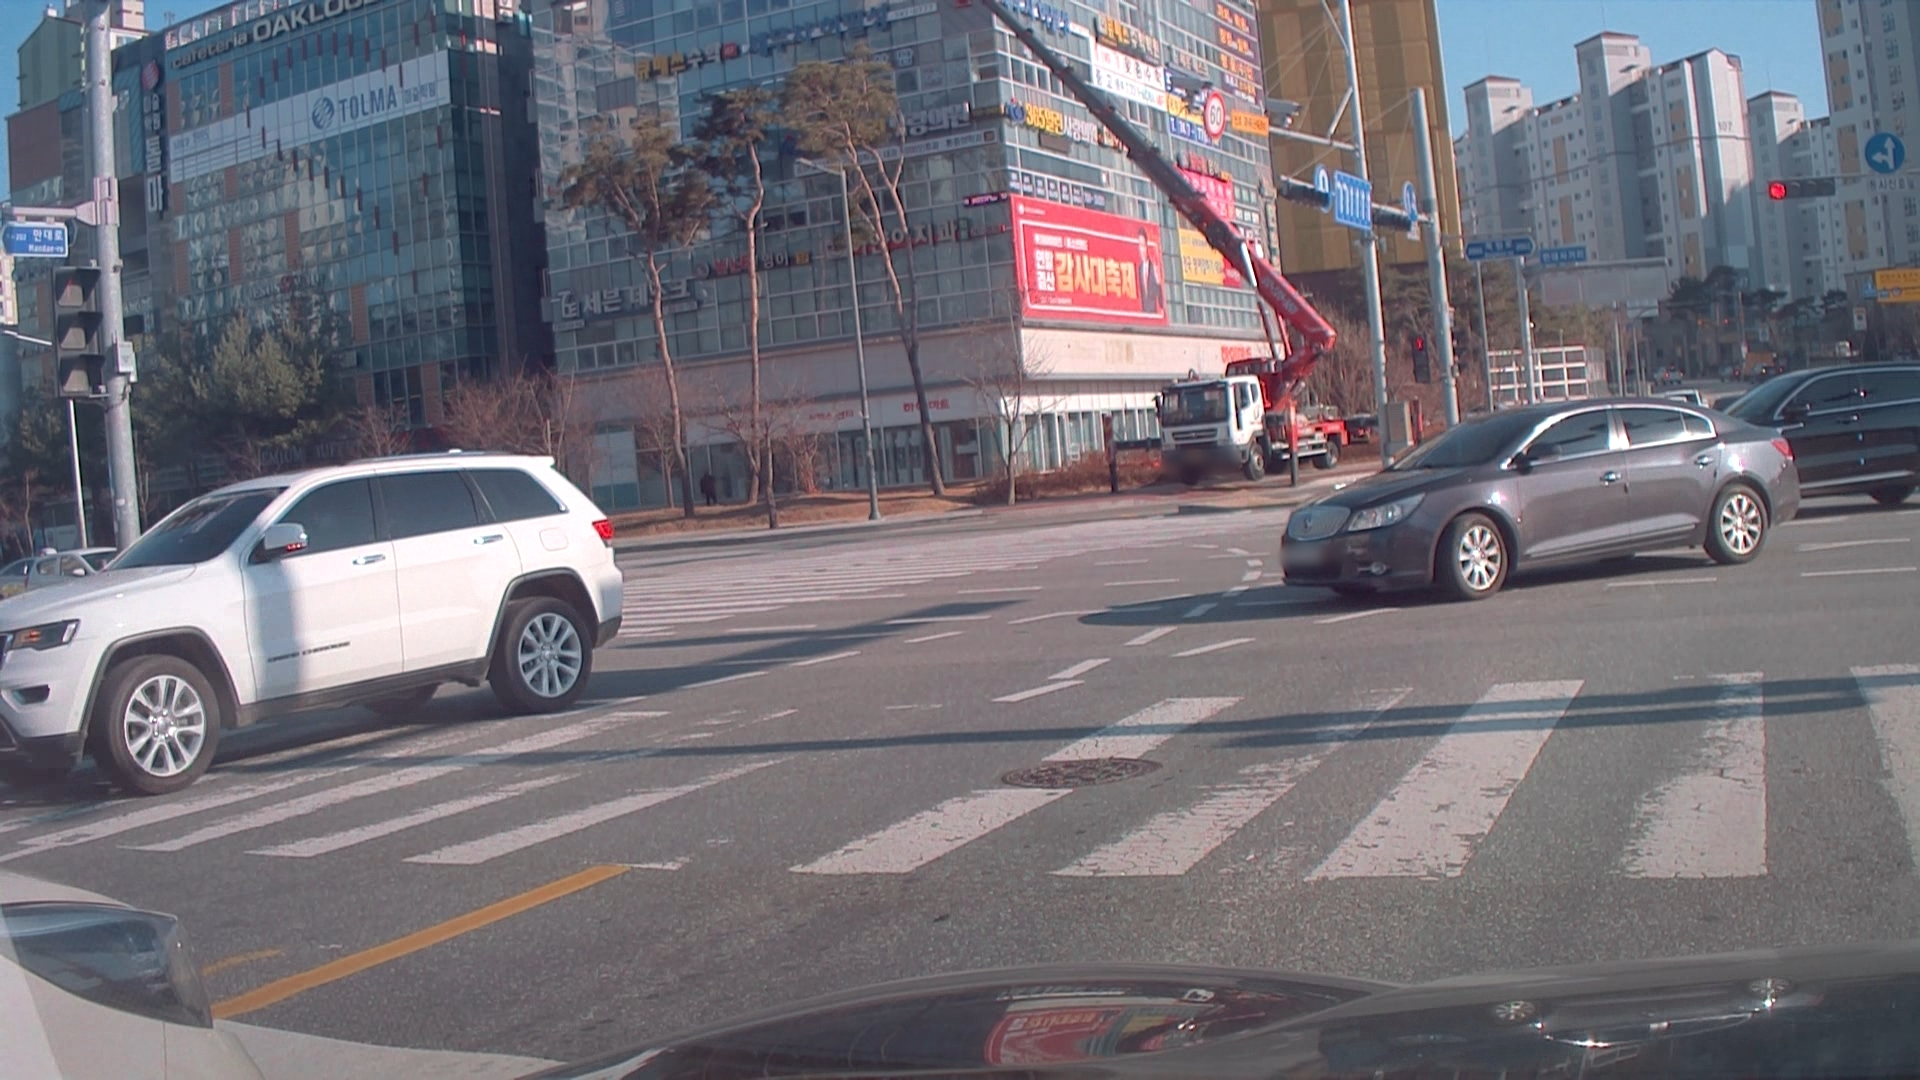trafficLight: (1768, 175, 1836, 198)
trafficSignCircle: (1866, 133, 1908, 174), (1200, 90, 1226, 140), (1312, 167, 1329, 210), (1404, 183, 1418, 220)
trafficSignRTG: (1338, 175, 1377, 228)
